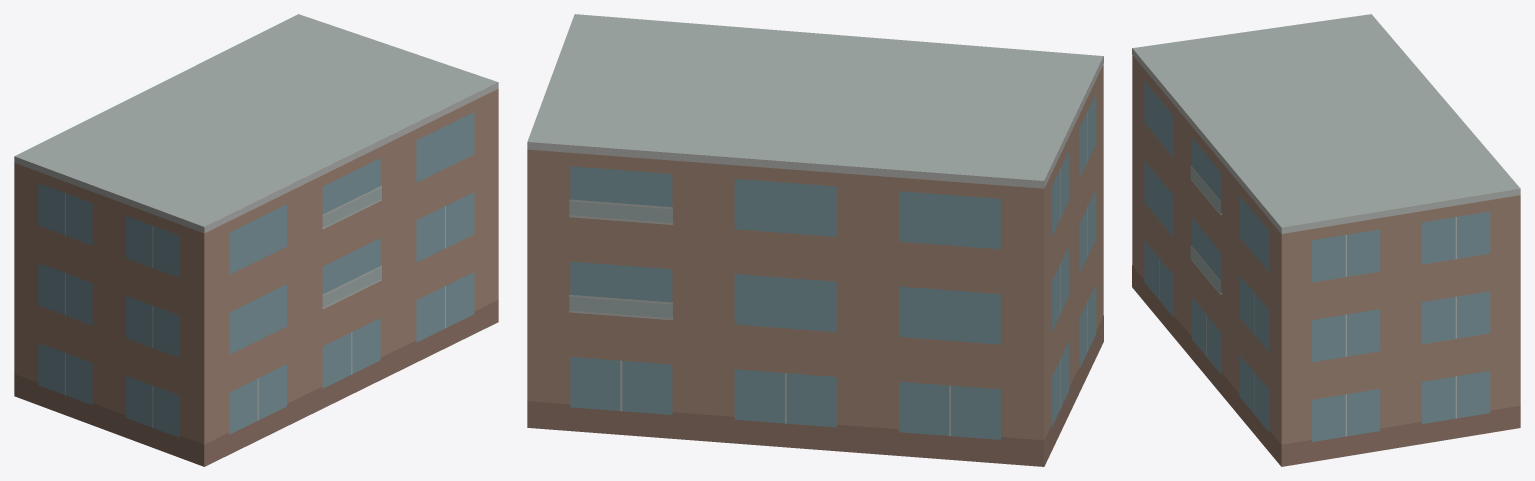
File: survey-upis-32709393.glb
3 renders of one model, left to right at view 1: azimuth 30°, elevation 25°; view 2: azimuth 150°, elevation 25°; view 3: azimuth 270°, elevation 25°, orthographic. The views are drawn at different scales.
Parts seen in each view (by area): view 1: survey-upis-32709393.tmp; view 2: survey-upis-32709393.tmp; view 3: survey-upis-32709393.tmp.
Boxes of the visible parts, left/top/right/bottom form: survey-upis-32709393.tmp: left=14, top=14, right=498, bottom=466; survey-upis-32709393.tmp: left=527, top=14, right=1103, bottom=466; survey-upis-32709393.tmp: left=1132, top=14, right=1520, bottom=466.
Size of the model in its own units: 17.54 by 9.15 by 13.48.
